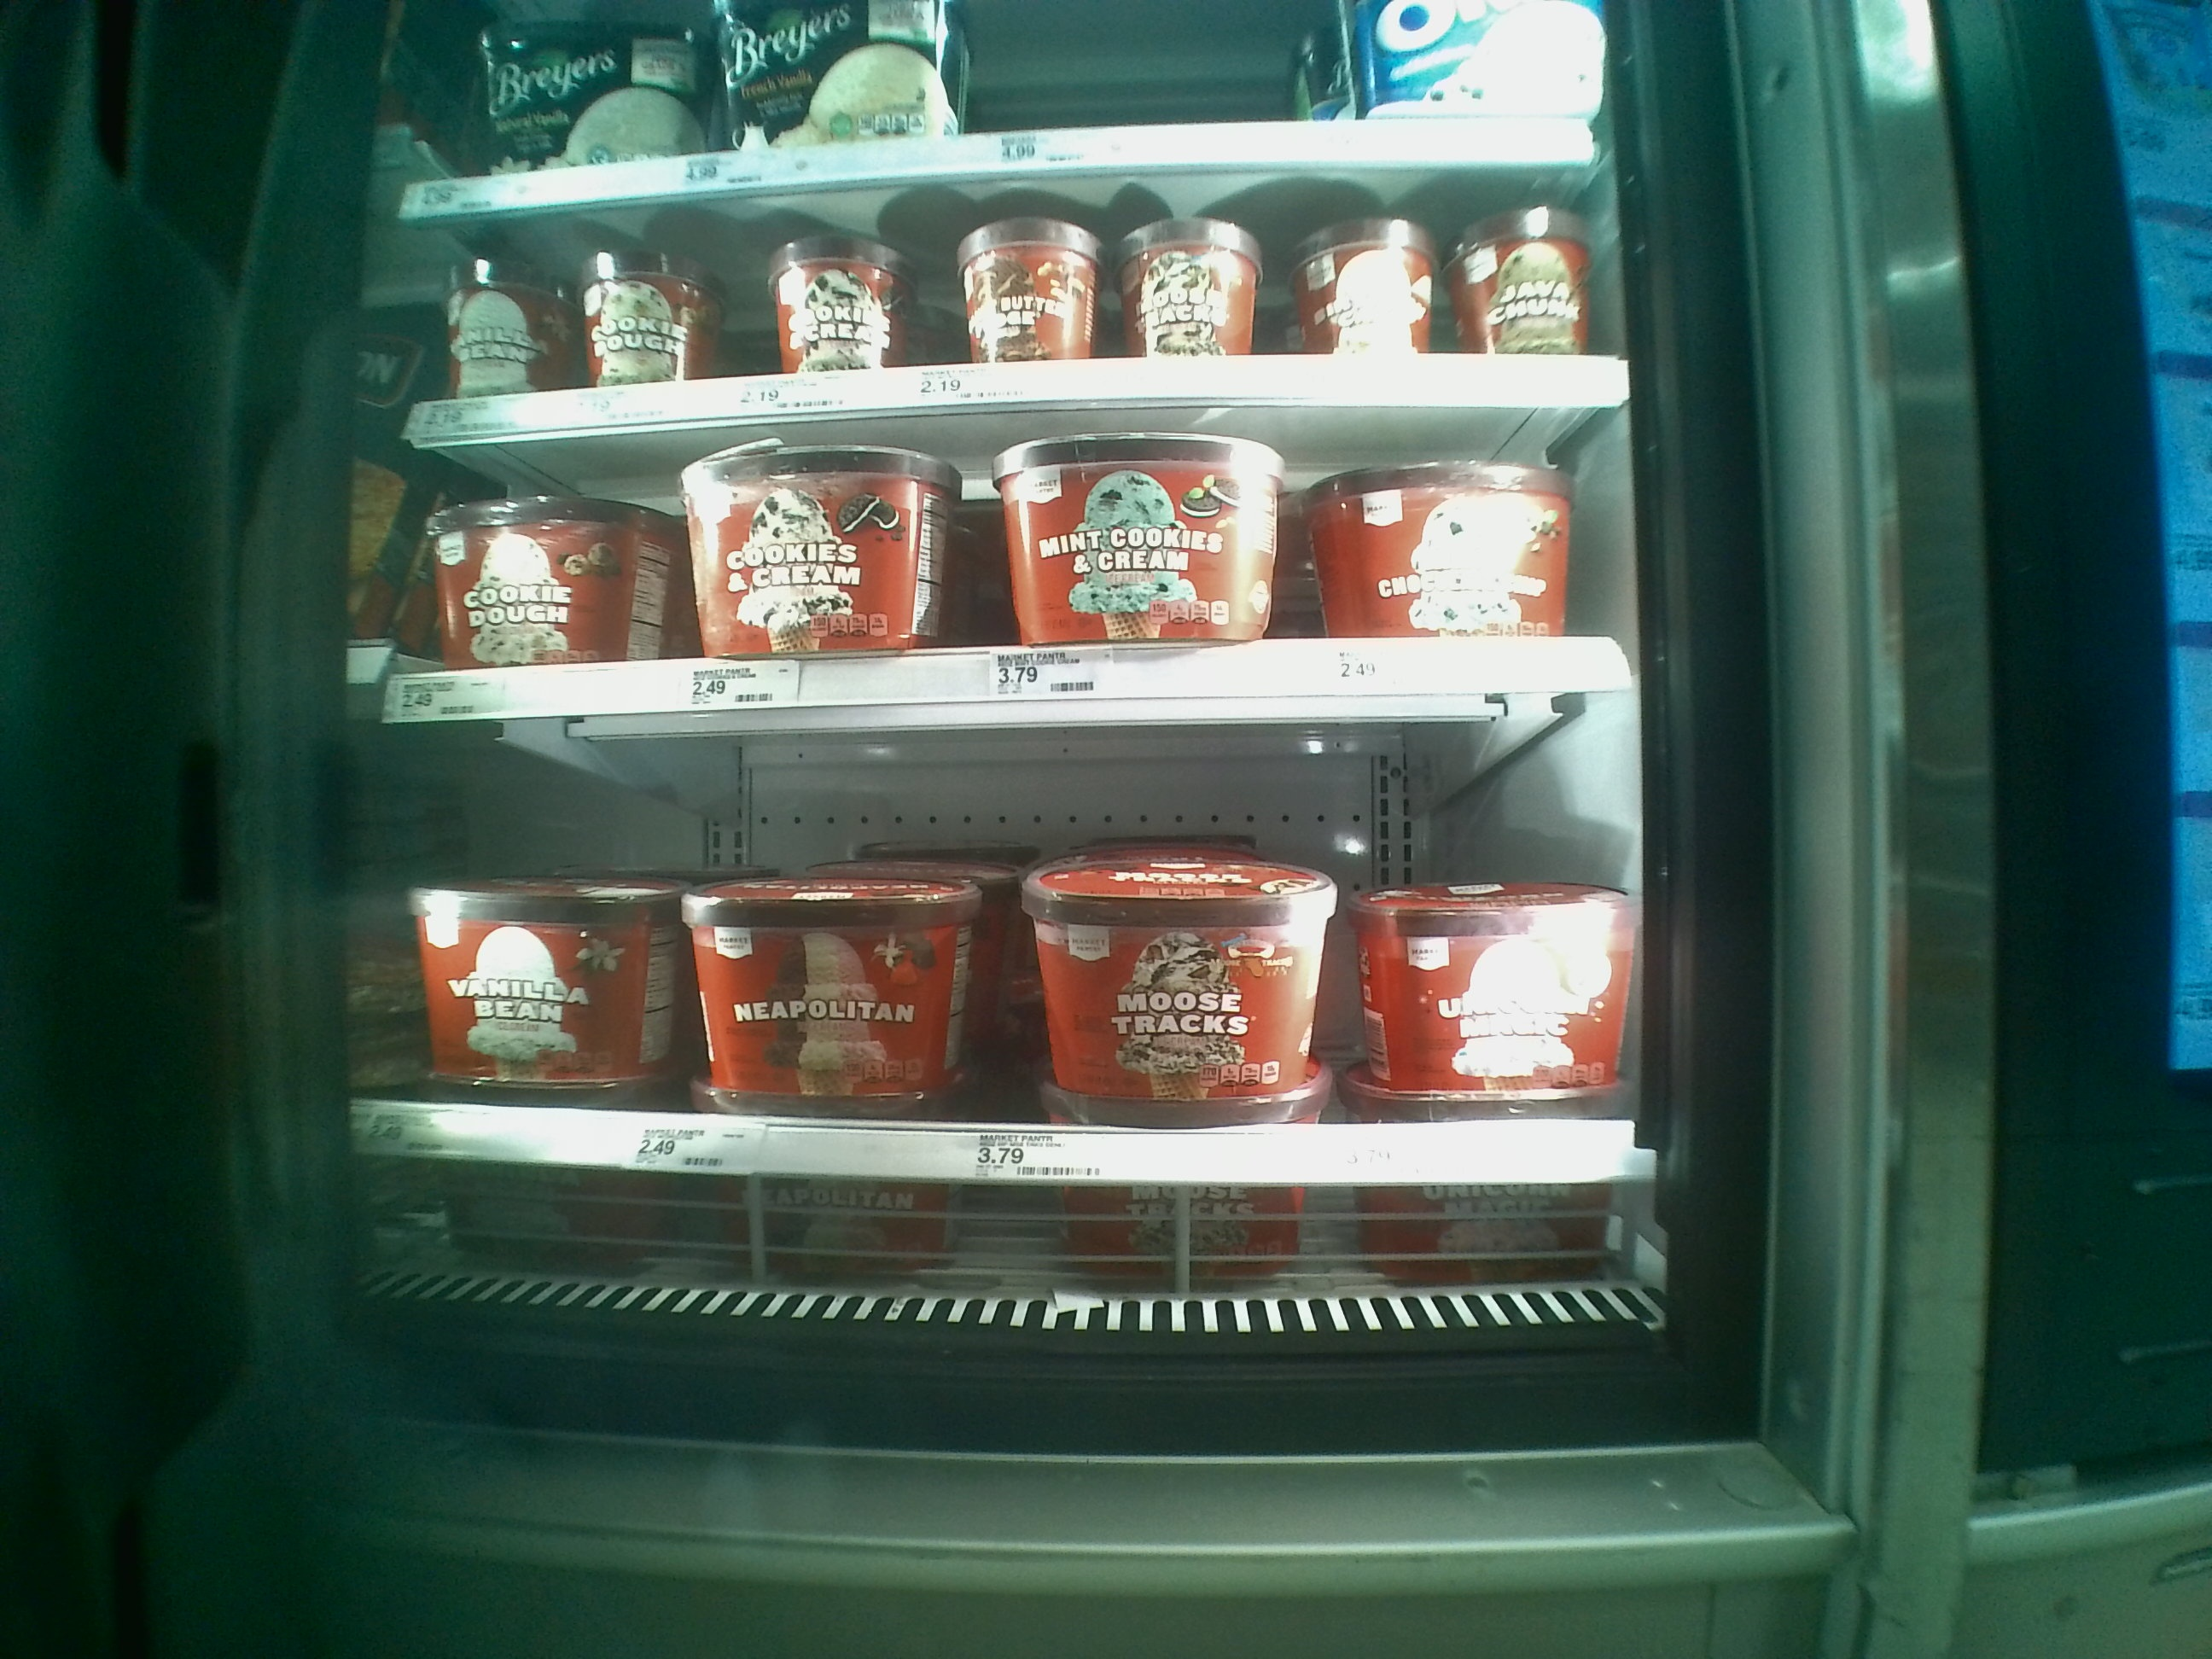ice-cream-shelf: (361, 723, 1656, 1187), (381, 453, 1616, 723), (394, 185, 1623, 441)
